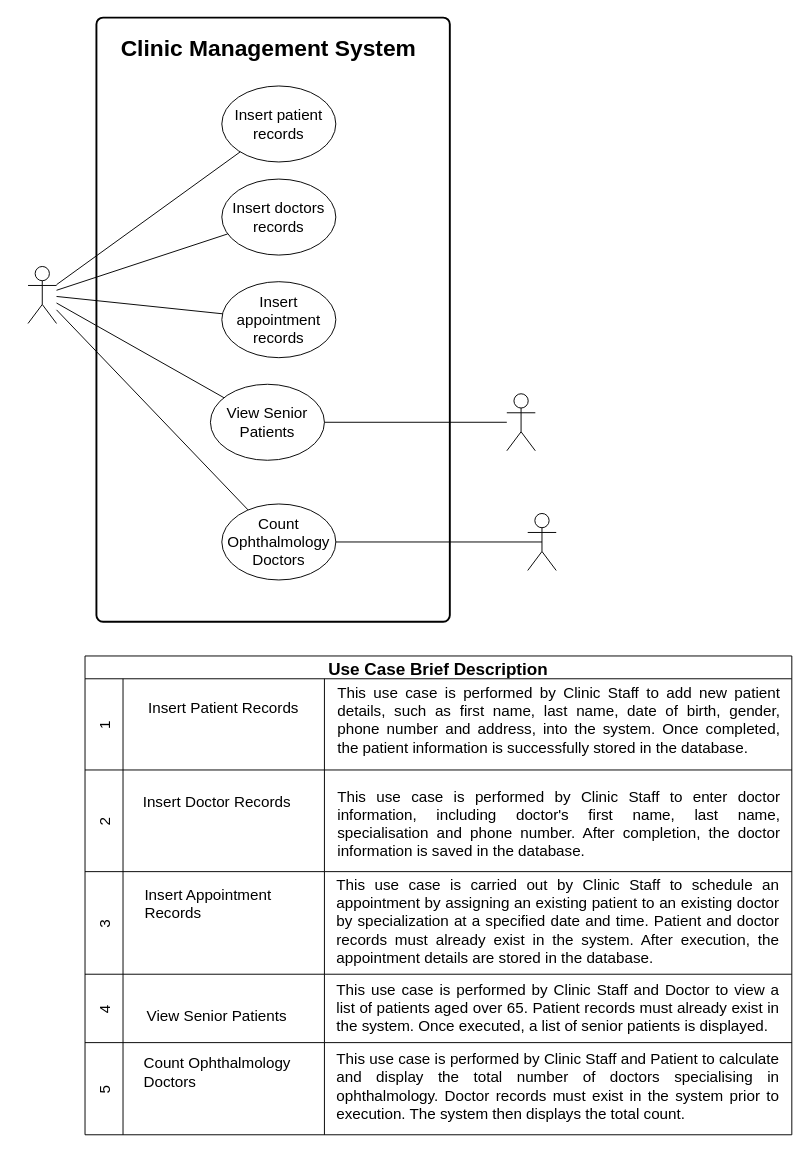
Some shapes in this 808 by 1151 pixel diagram are drawn without their labels. The shapes that lost their labels are listed below. From the top down, each one's centre as x and y in pixels, then its label:
the point at 42,294: Clinic staff
the point at 520,422: Doctor
the point at 541,541: Patient
